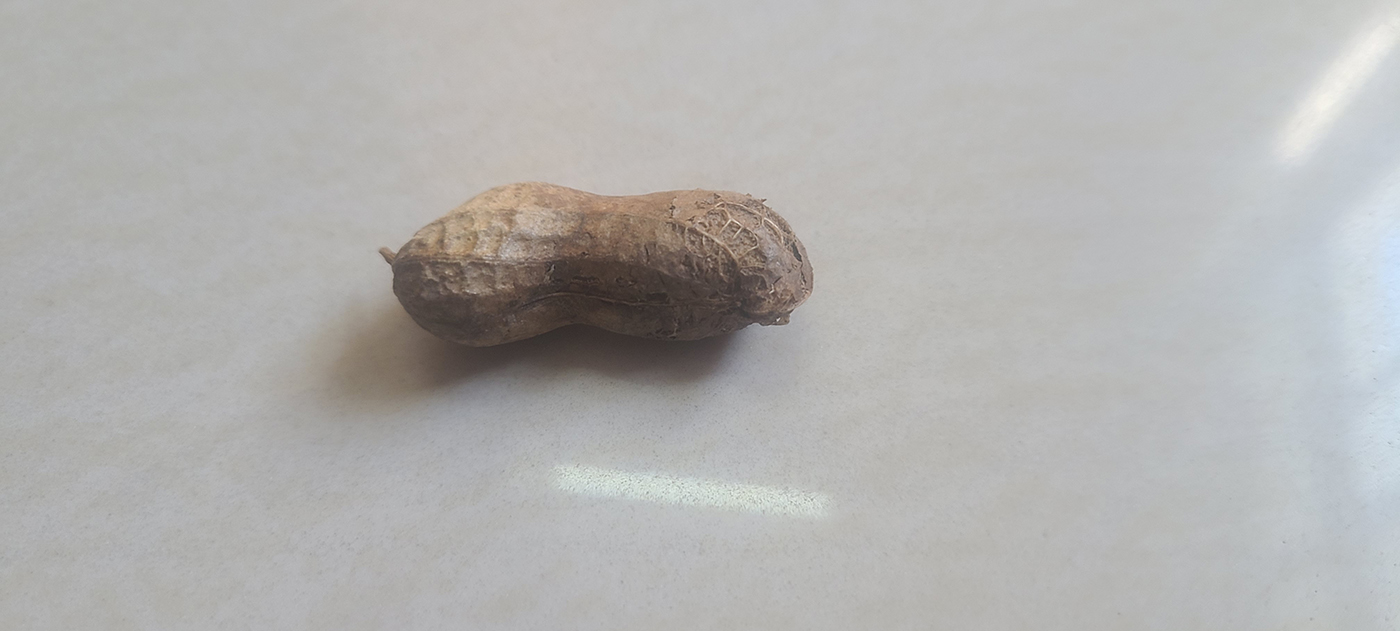l: (386, 183, 816, 352)
